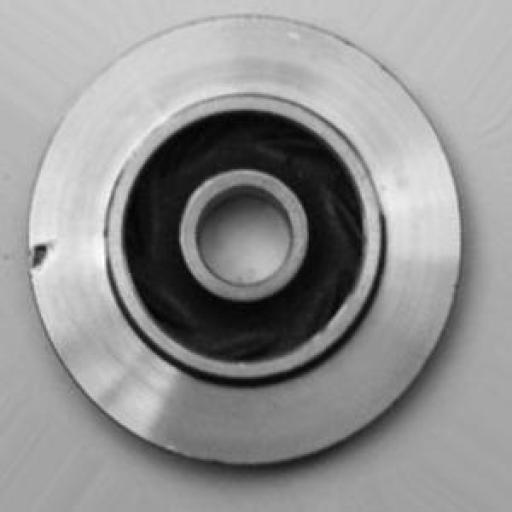defect: (21, 208, 68, 297)
